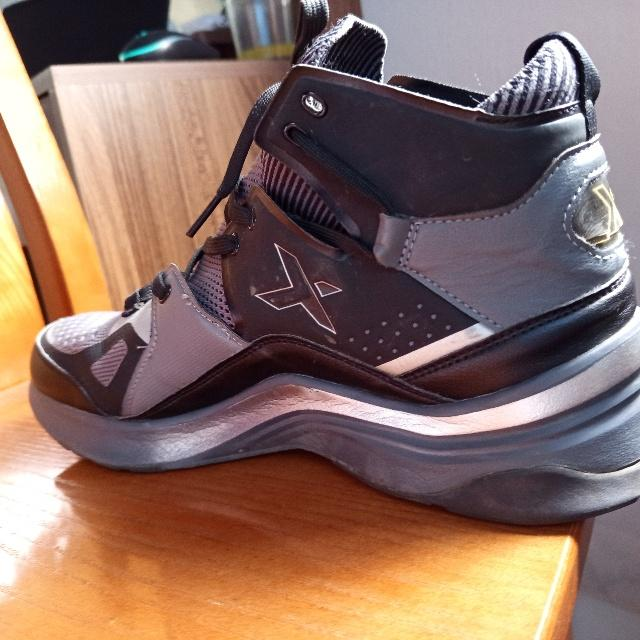broken-error: (179, 290, 195, 309)
